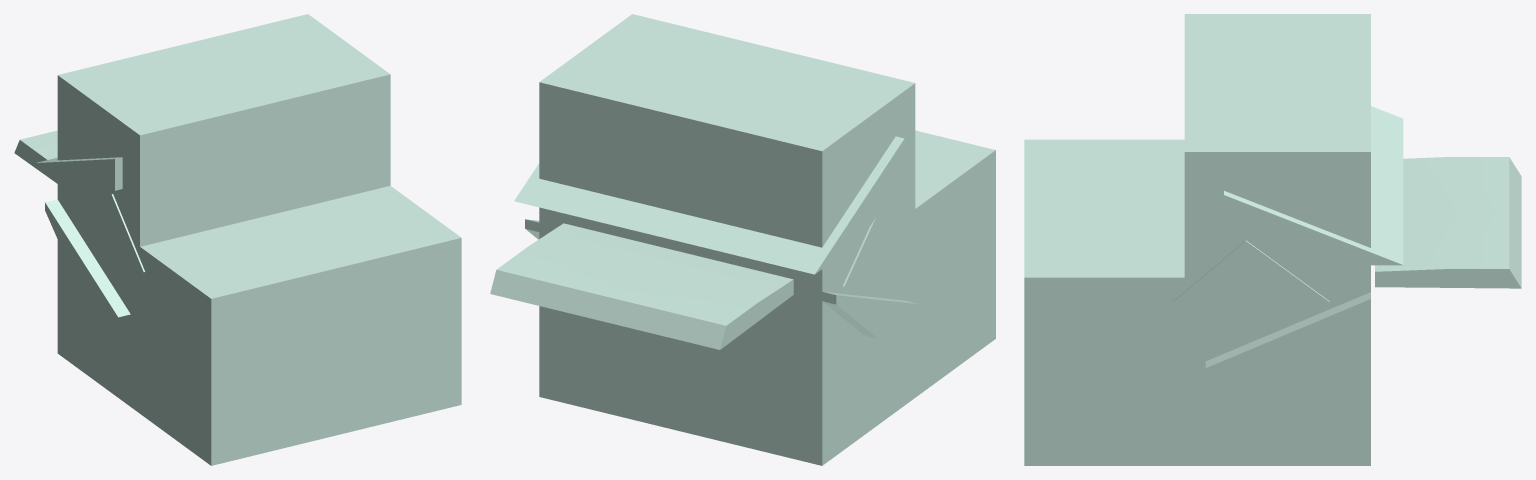
The picture shows the model from 3 angles, left to right: view 1: azimuth 30°, elevation 25°; view 2: azimuth 150°, elevation 25°; view 3: azimuth 270°, elevation 25°; orthographic projection. The views are drawn at different scales.
Visible parts, largest first — view 1: Renderer Node; view 2: Renderer Node; view 3: Renderer Node.
Part boxes in pixels (x1,y1,x2,y2): Renderer Node: (14, 14, 461, 465); Renderer Node: (490, 14, 995, 465); Renderer Node: (1024, 14, 1521, 465).
Bounding box in the file's own units: 1.38 × 1.33 × 1.91.
